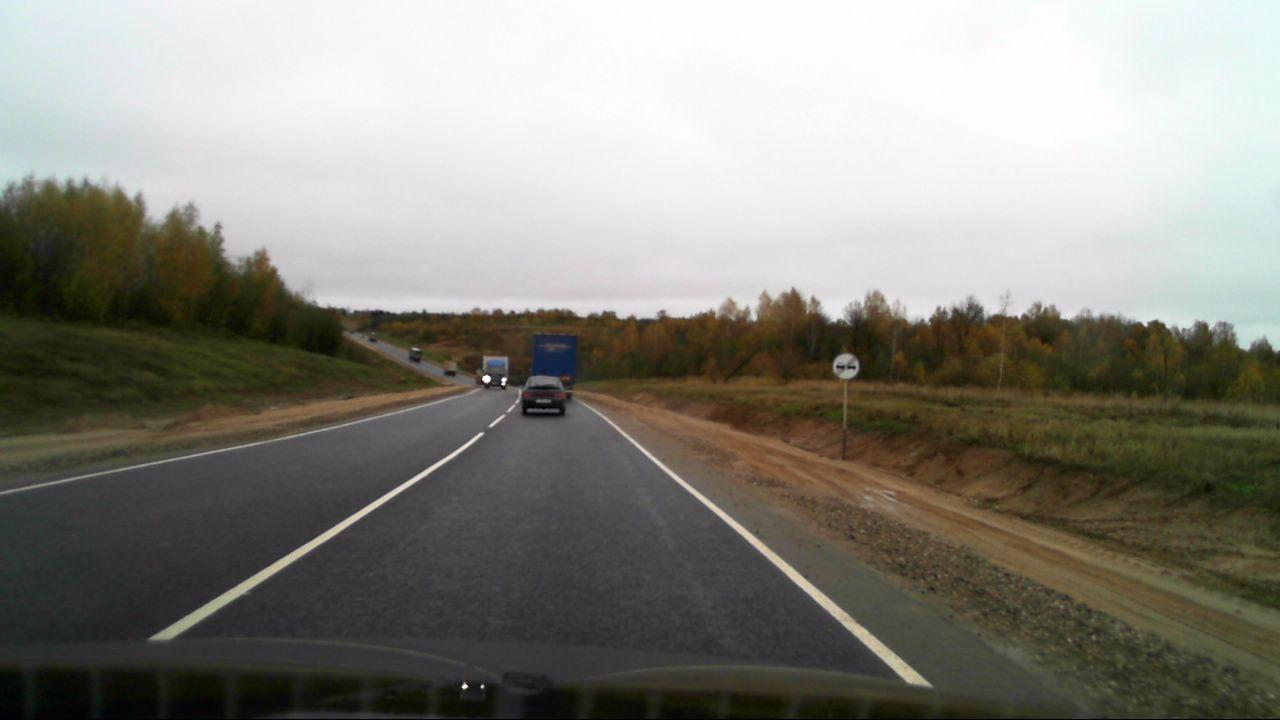3_21: (832, 352, 860, 381)
